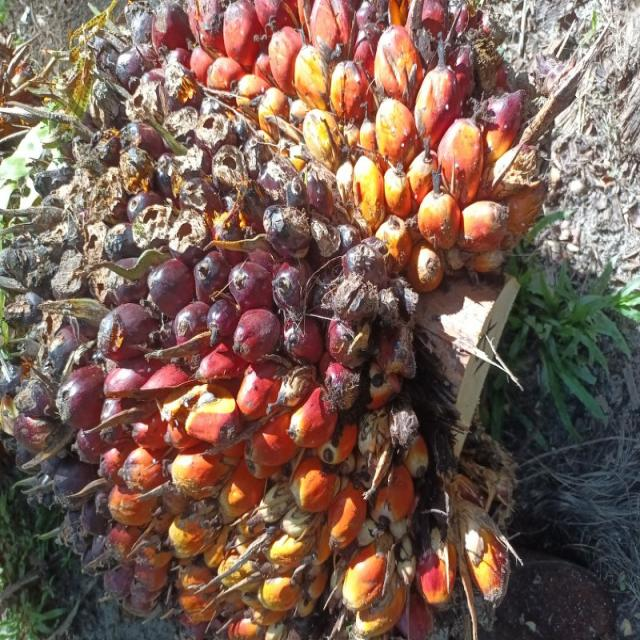fraksi 3: (0, 47, 466, 640)
